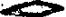Mouth: (1, 1, 66, 17)
